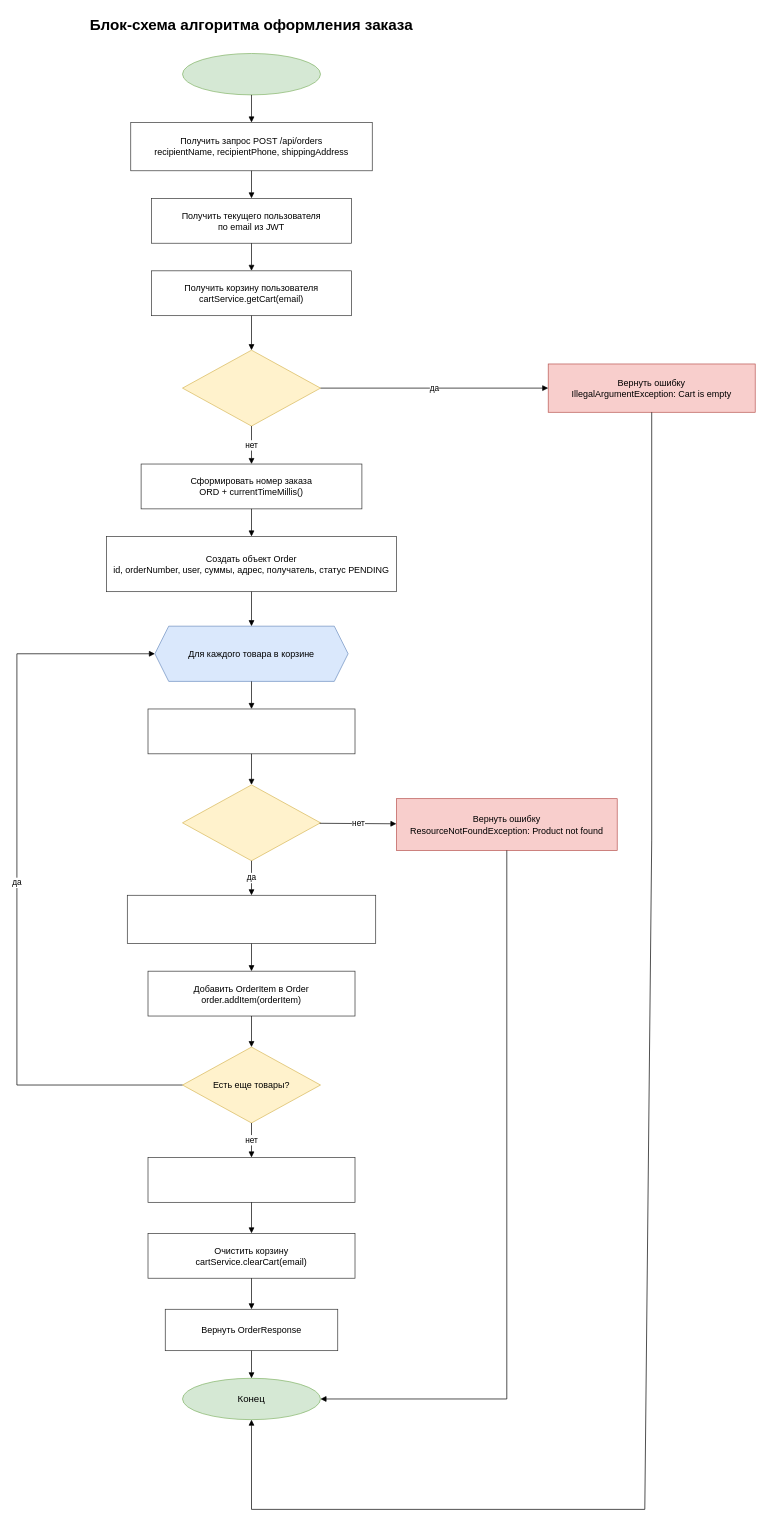
This 767x1527 diagram has some shape labels left out. The centre of each missing label's shape, as x and y in pixels:
Корзина пуста?: (251,387)
Найти Product по id productRepository.findById(): (251,731)
Начало: (251,74)
Создать OrderItem id, product, unitPrice, quantity, subtotal: (251,919)
Сохранить заказ orderRepository.save(order): (251,1179)
Товар найден?: (251,822)
